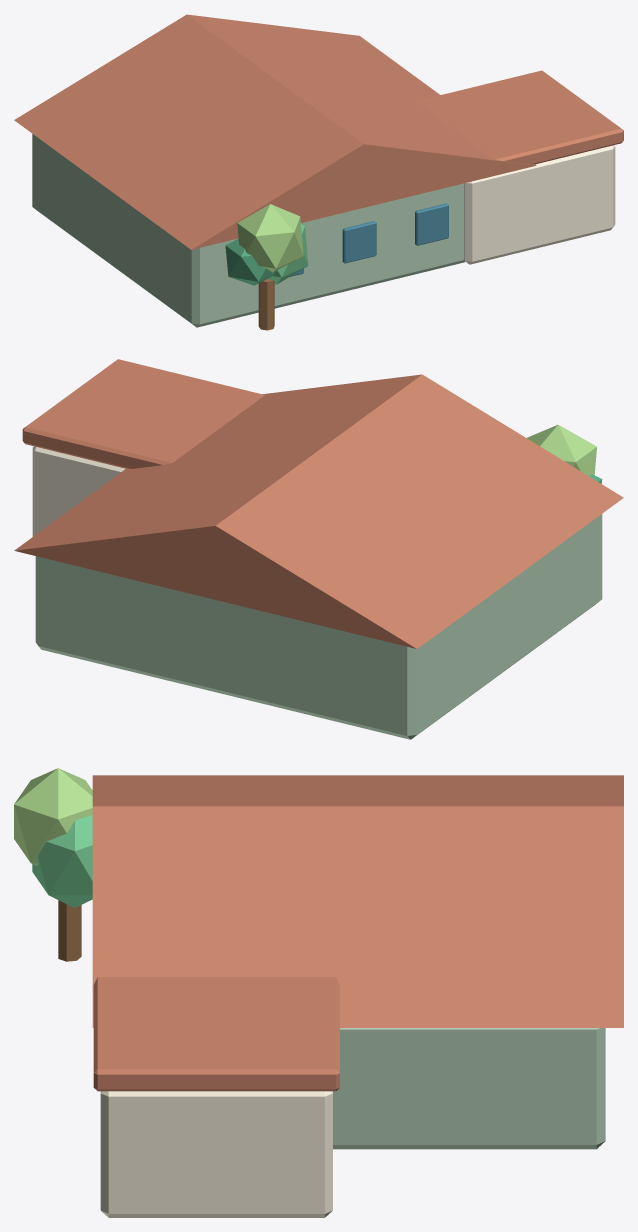
File: RES_LUX_2x2_003.glb
3 views of the same model, one above another, from view 1: azimuth 30°, elevation 25°; view 2: azimuth 150°, elevation 25°; view 3: azimuth 270°, elevation 25° (orthographic). The views are drawn at different scales.
Parts seen in each view (by area): view 1: RES_LUX_2x2_003_Visual; view 2: RES_LUX_2x2_003_Visual; view 3: RES_LUX_2x2_003_Visual.
Boxes of the visible parts, x1,y1,x2,y2 form: RES_LUX_2x2_003_Visual: [14, 14, 623, 330]; RES_LUX_2x2_003_Visual: [14, 359, 623, 739]; RES_LUX_2x2_003_Visual: [14, 768, 623, 1217].
Size of what is drawn, in the model's own units: 3.72 by 1.24 by 3.02.
